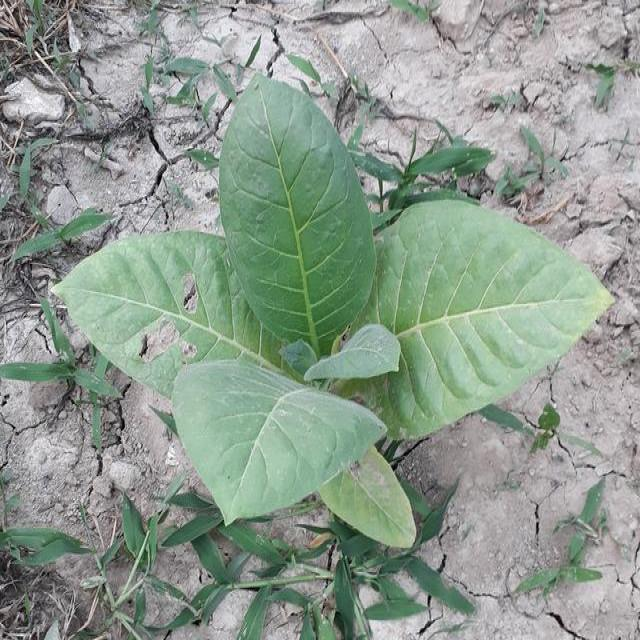crop: (56, 77, 614, 566)
